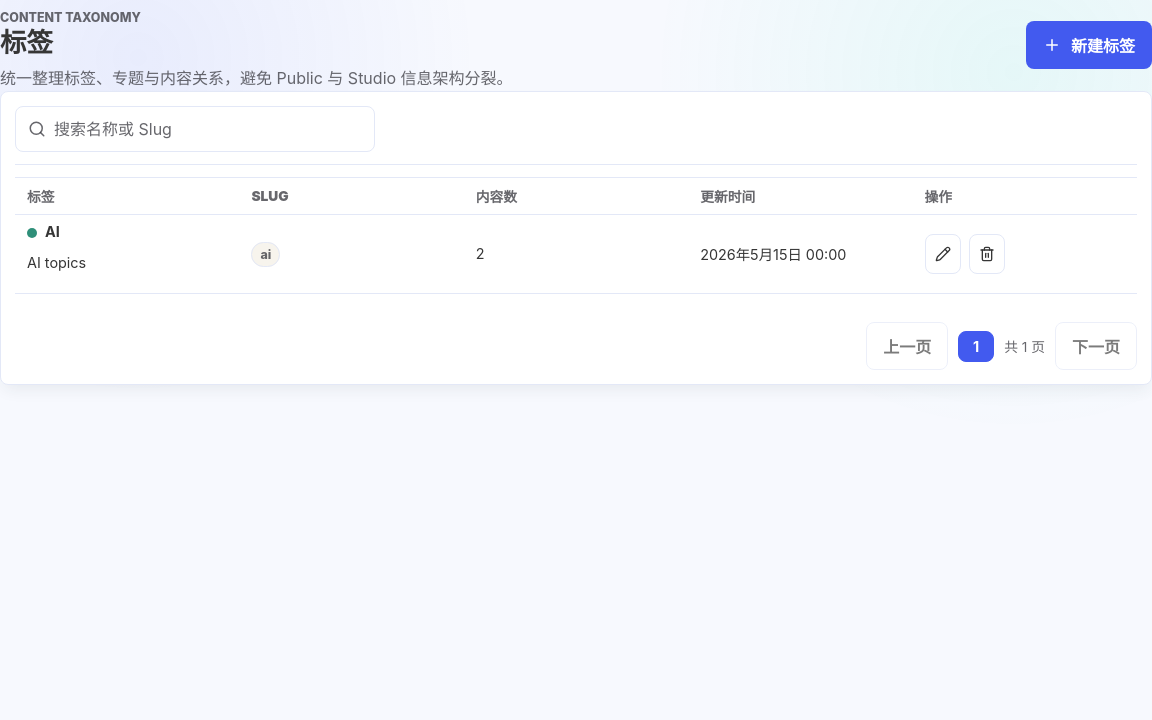
Test case: StudioTagsPage › shows upstream conflict when referenced tag deletion fails
Check: the text "AI" is shown, box [45,222,60,240]
Click the button named "删除 AI" at (987, 254), box [969,234,1005,274]
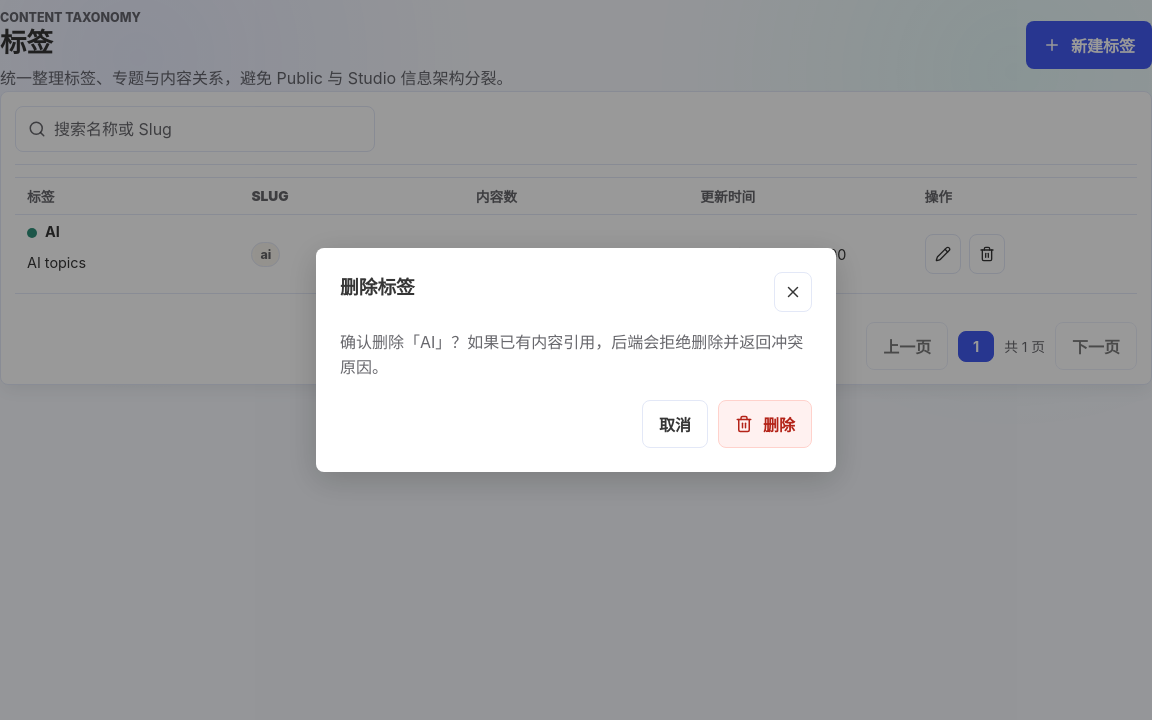
Click the button "删除" at (765, 424), box [718,400,812,448]
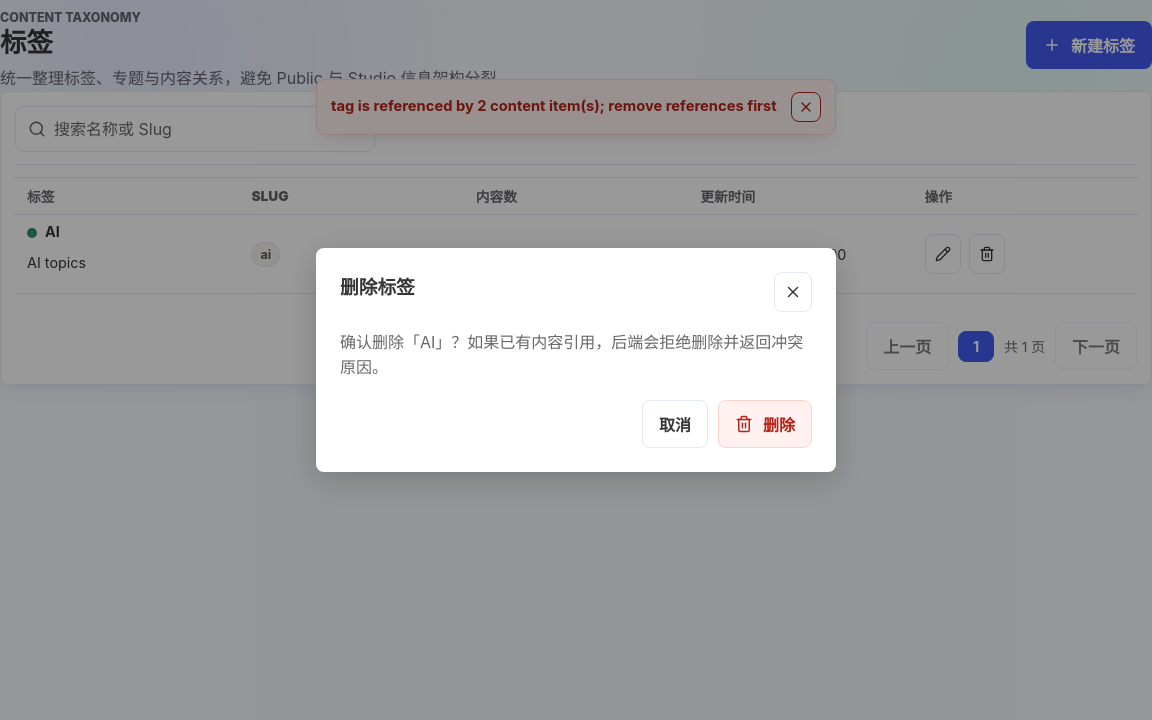
Check: the text "tag is referenced by 2 content item(s); remove references first" is shown, box [331,96,777,118]
